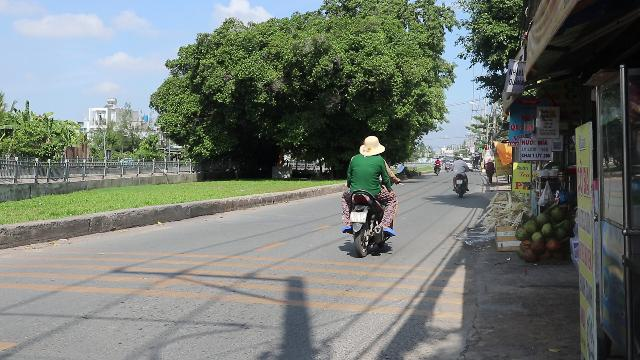licenseplate: (349, 212, 366, 222)
motorcyclist: (336, 134, 398, 257)
nohelmet: (358, 135, 384, 155)
